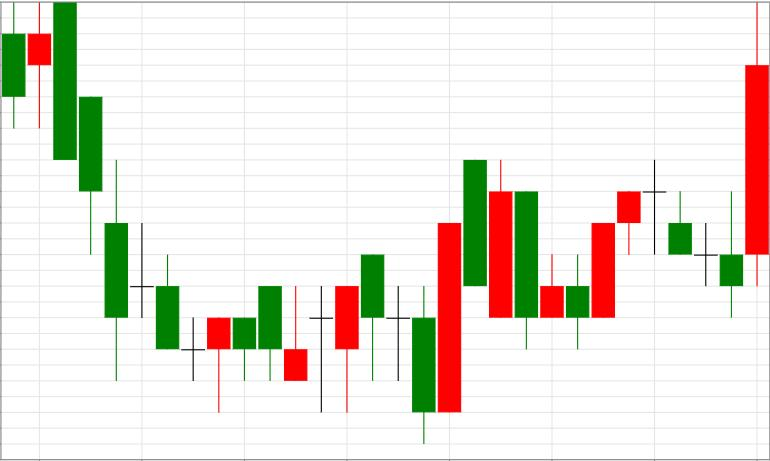hammer_rise: (54, 4, 230, 413)
